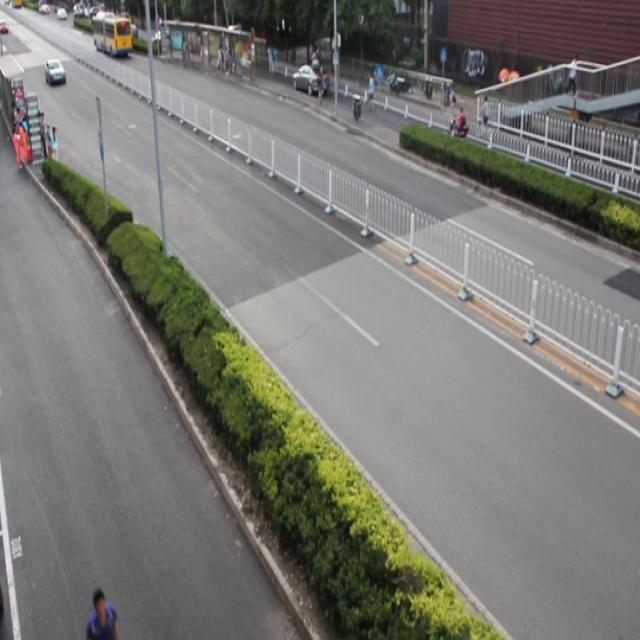car: (292, 61, 330, 94)
